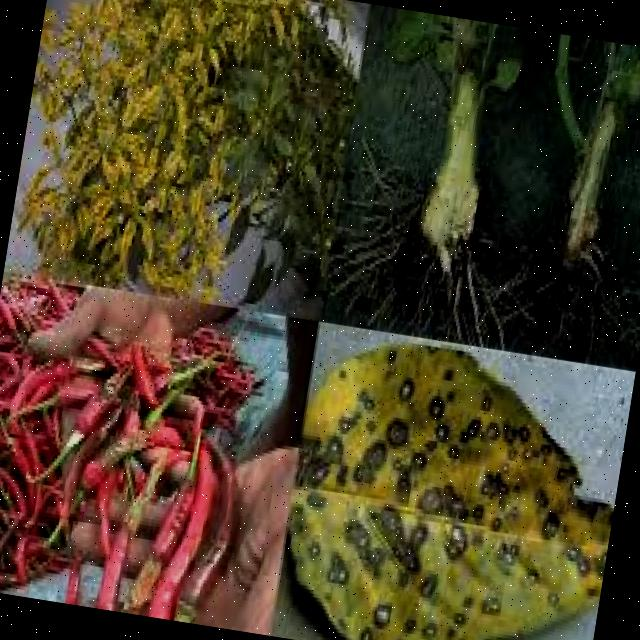healthy: (23, 0, 306, 295)
